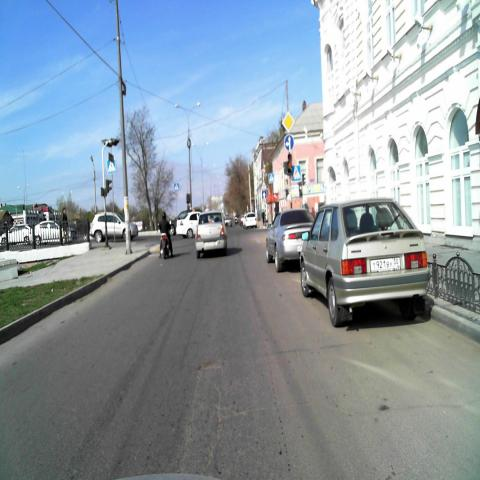4_1_5: (284, 134, 294, 151)
